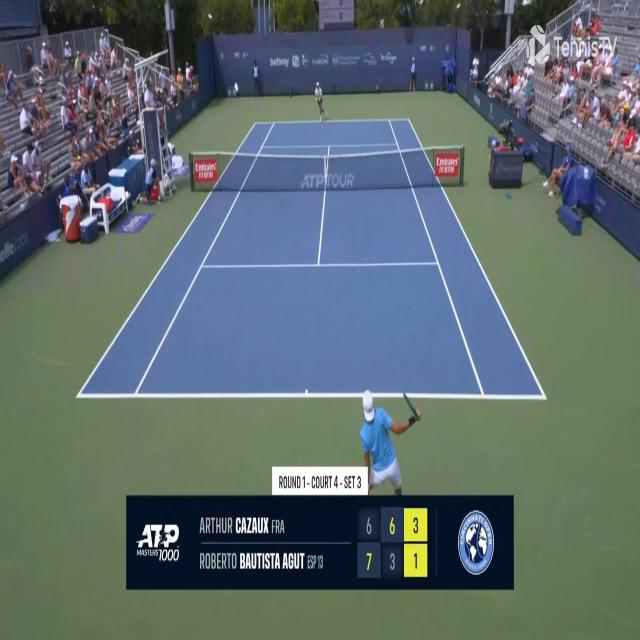tennis-player: (360, 385, 423, 496), (313, 80, 326, 121)
